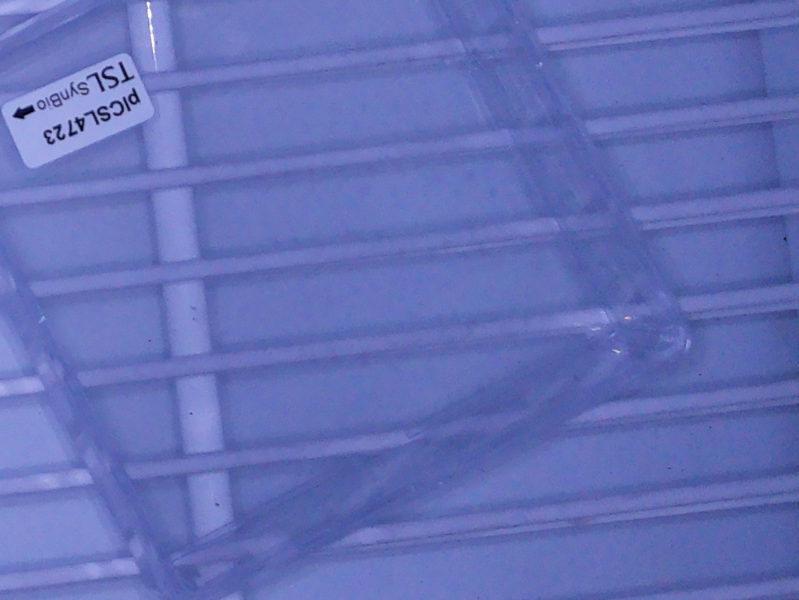plate: (1, 1, 692, 599)
